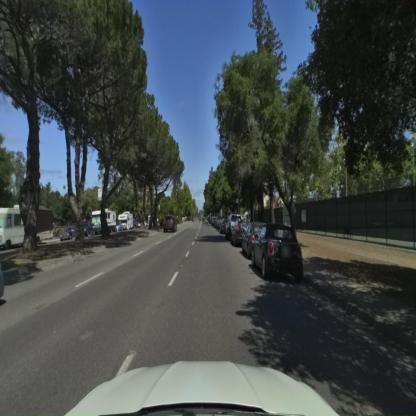bus: (0, 206, 55, 251)
car: (247, 223, 306, 283), (242, 223, 268, 255), (229, 216, 246, 244), (60, 228, 78, 242), (164, 218, 177, 232)
truck: (88, 205, 117, 236), (118, 208, 135, 238)
